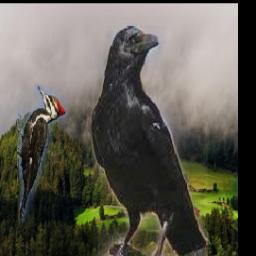Crow: (91, 26, 207, 256)
Woodpecker: (16, 84, 66, 229)
